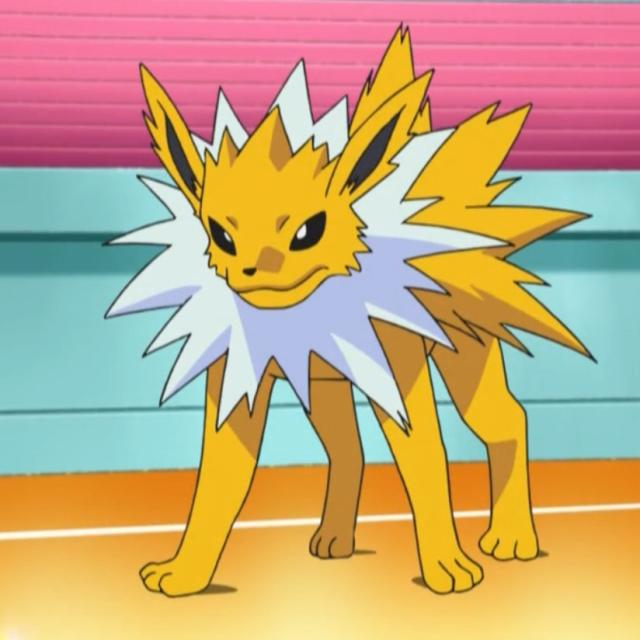Jolteon: (128, 26, 545, 594)
